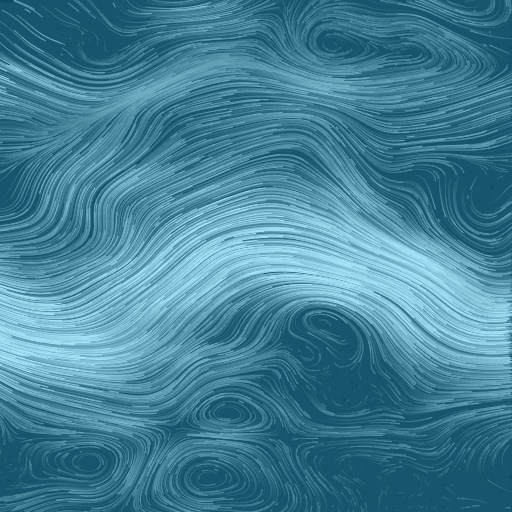eddy: (166, 447, 260, 509), (29, 434, 129, 488), (298, 306, 366, 370), (193, 392, 269, 432), (308, 26, 355, 62)
